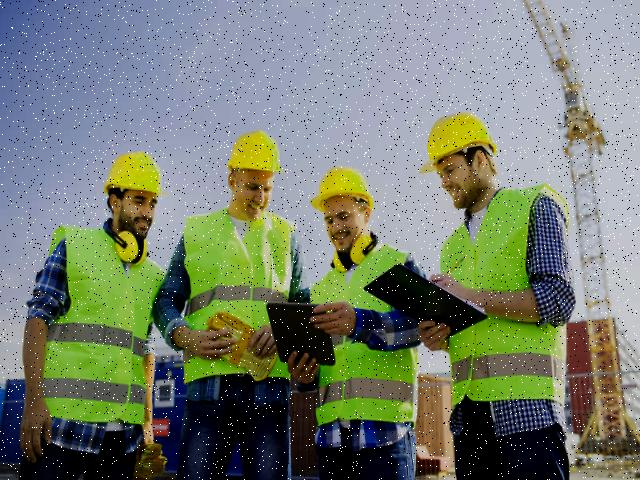Helmet: (415, 106, 502, 179), (309, 160, 378, 219), (101, 147, 170, 201), (224, 125, 286, 179)
